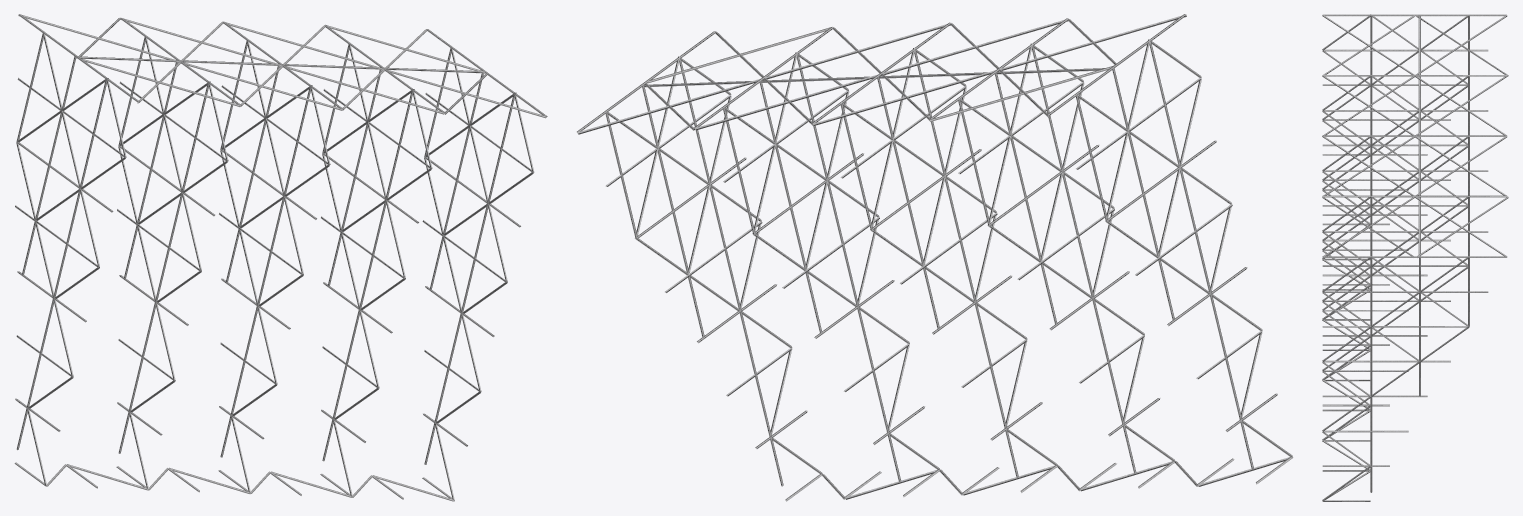
3 renders of one model, left to right at view 1: azimuth 30°, elevation 25°; view 2: azimuth 150°, elevation 25°; view 3: azimuth 270°, elevation 25°, orthographic. The views are drawn at different scales.
Visible parts, largest first — view 1: _0TRIBUENE_02_023_SUB2_Scene.572; view 2: _0TRIBUENE_02_023_SUB2_Scene.572; view 3: _0TRIBUENE_02_023_SUB2_Scene.572.
Boxes of the visible parts, x1,y1,x2,y2 form: _0TRIBUENE_02_023_SUB2_Scene.572: (14,14,547,501); _0TRIBUENE_02_023_SUB2_Scene.572: (577,14,1293,501); _0TRIBUENE_02_023_SUB2_Scene.572: (1322,14,1508,501).
Bounding box in the file's own units: 3810 × 3465 × 1591.
